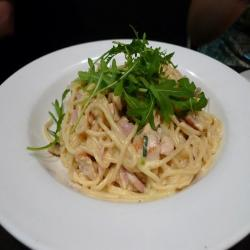carbonara: (55, 59, 216, 203)
salad: (93, 57, 189, 120)
